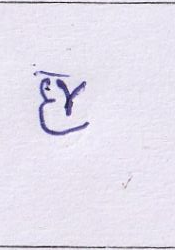u_matra: (34, 101, 89, 136)
